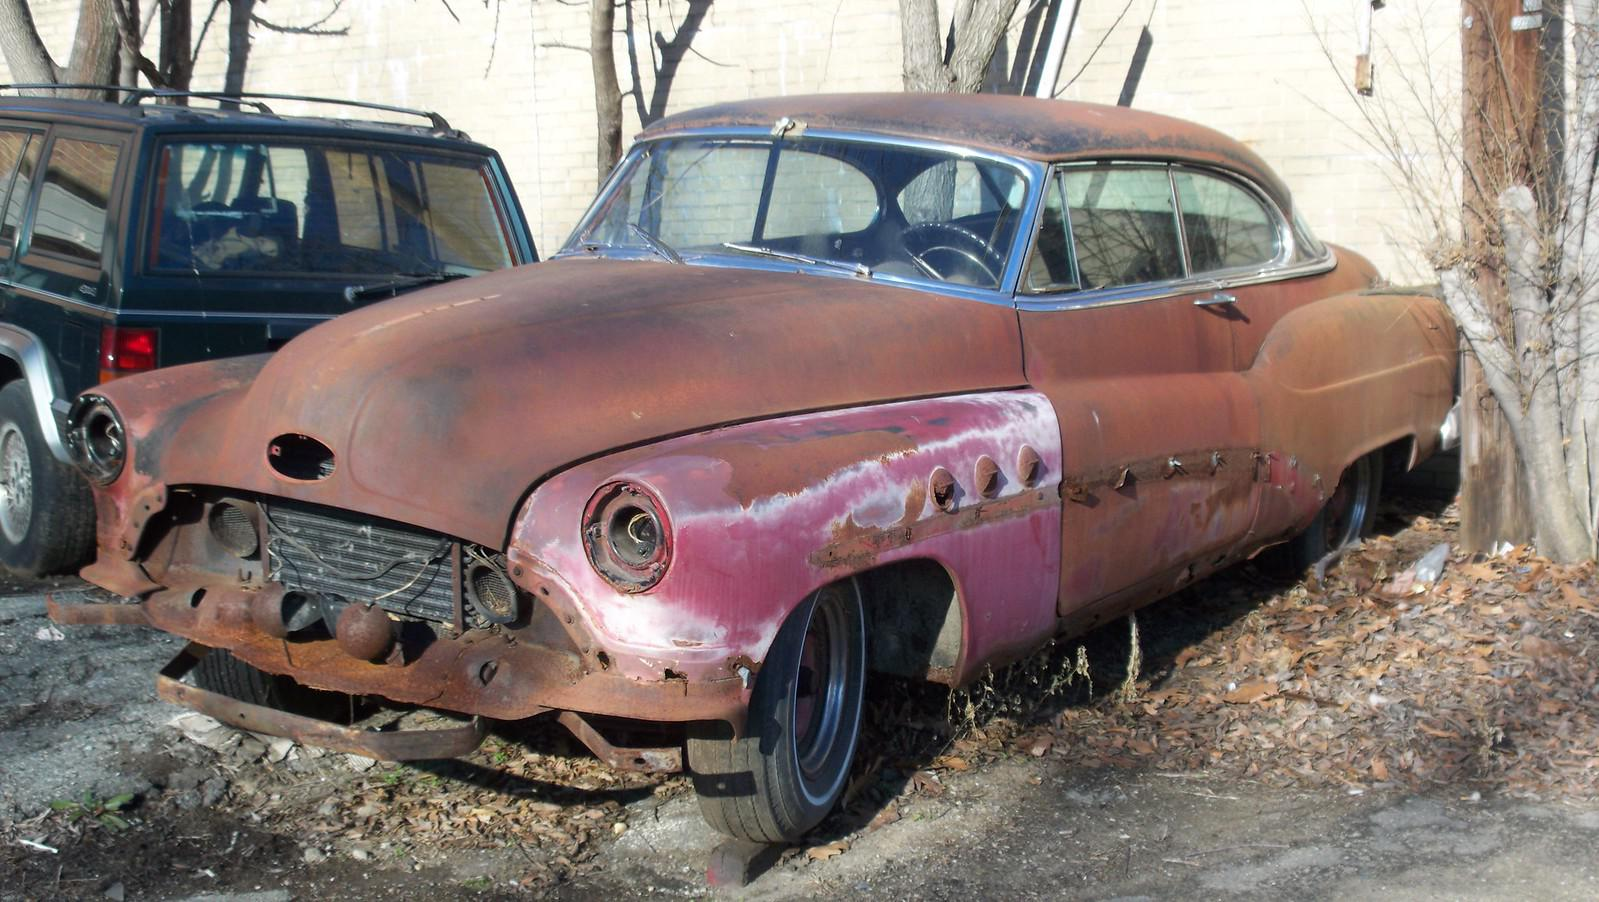fender-dent: (753, 375, 1077, 577)
front-bumper-dent: (118, 513, 575, 760)
